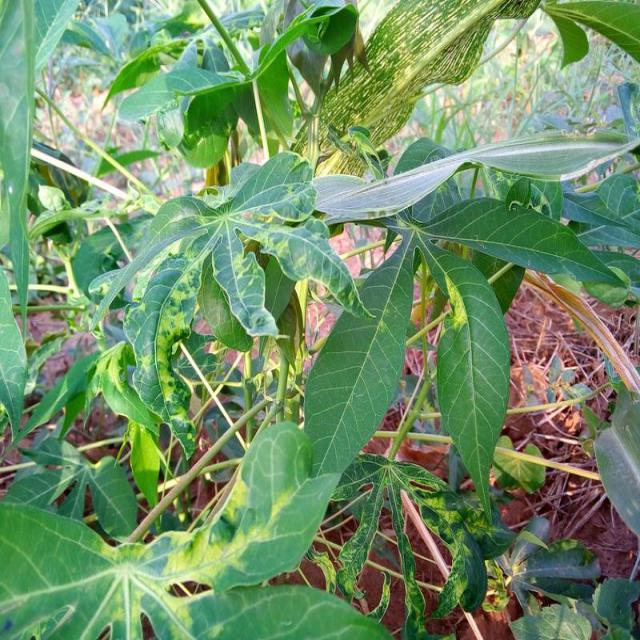cassava leaf: (0, 1, 638, 638), (302, 229, 418, 480), (433, 252, 510, 522)
